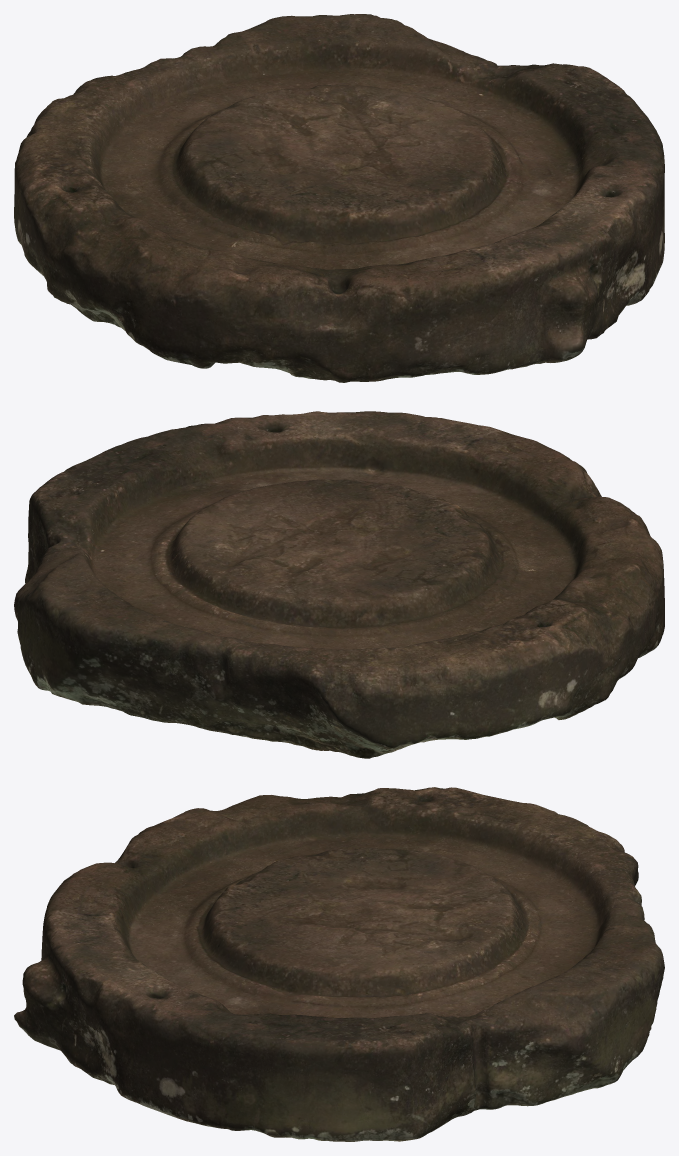
File: 49_MysonSanctuaryD_thanhphankientruc_final.glb
The picture shows the model from 3 angles, top to bottom: view 1: azimuth 30°, elevation 25°; view 2: azimuth 150°, elevation 25°; view 3: azimuth 270°, elevation 25°; orthographic projection. The views are drawn at different scales.
Size of the model in its own units: 0.8802 by 0.1677 by 0.8944.
Materials: 1 (1 with a texture image).
